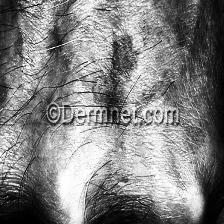Benign Marking or Mole: (93, 4, 152, 88), (0, 32, 33, 110)
